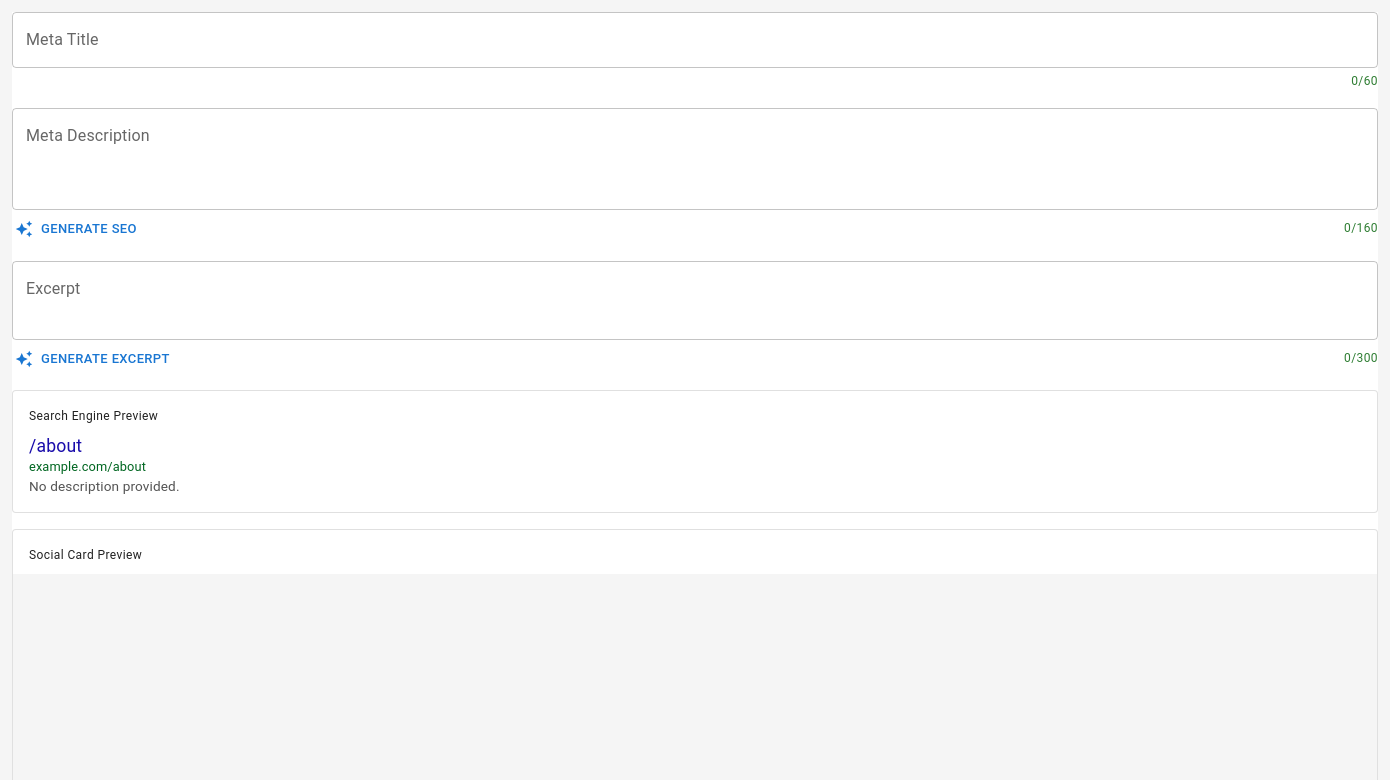
PageSeoTab — AI buttons (closes #76) › populates excerpt from section content
Click the button with test id "page-seo.btn.generate-excerpt" at (93, 359), box left=12, top=344, right=175, bottom=374
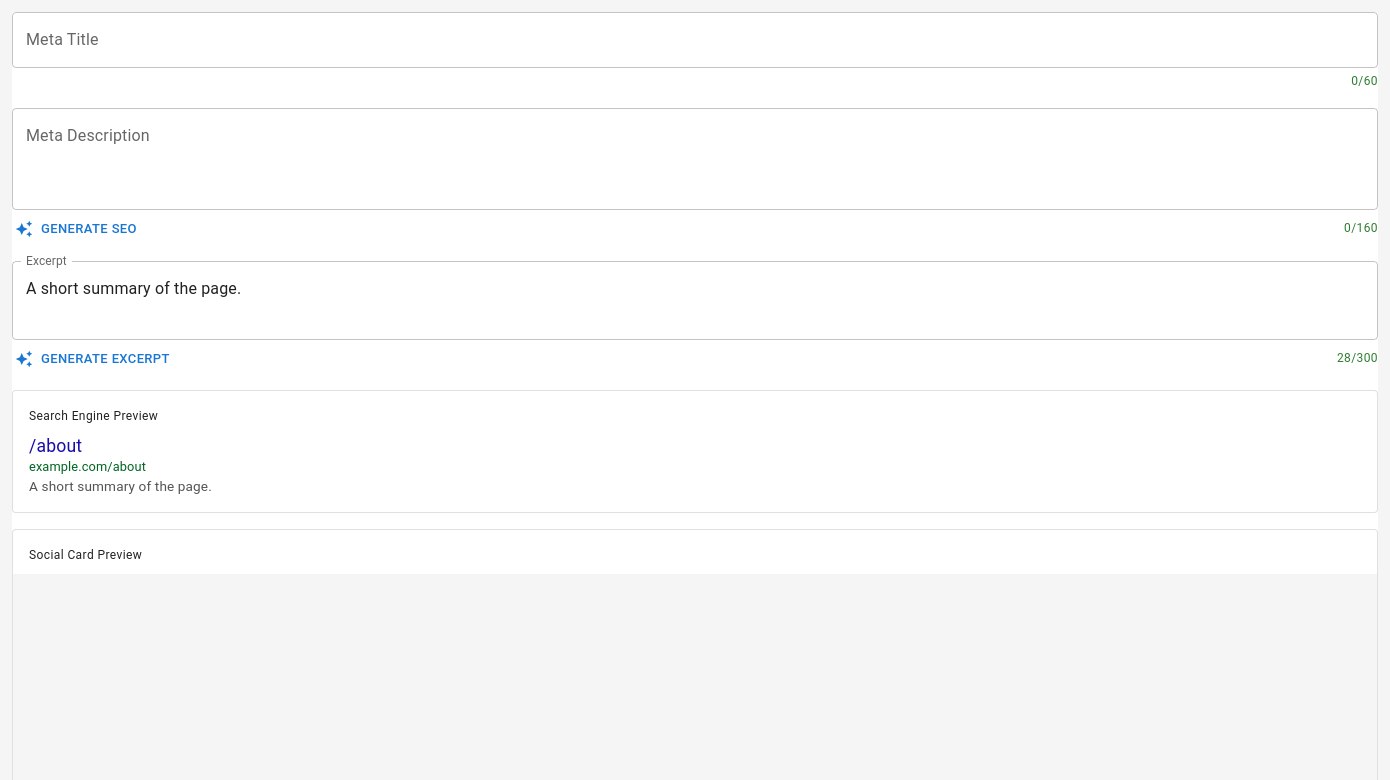
Expected: the text box labelled "Excerpt" holds "A short summary of the page.", left=26, top=277, right=1364, bottom=323
